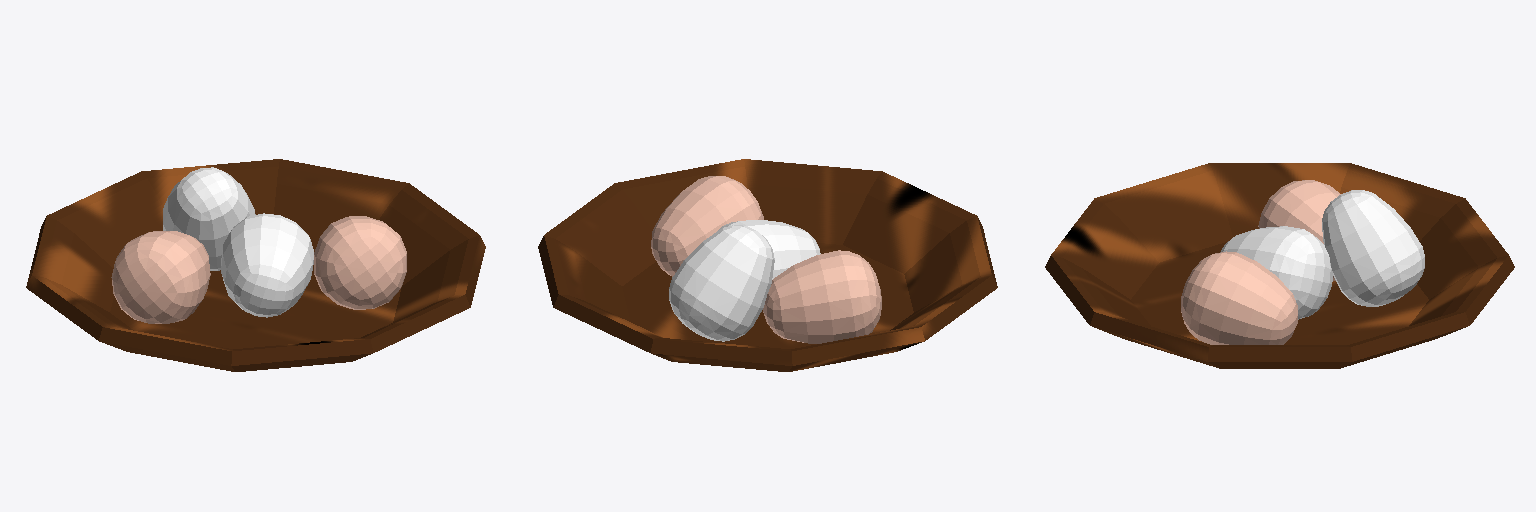
3 renders of one model, left to right at view 1: azimuth 30°, elevation 25°; view 2: azimuth 150°, elevation 25°; view 3: azimuth 270°, elevation 25°, orthographic.
Visible parts, largest first — view 1: Egg_Whole_Cube.001; view 2: Egg_Whole_Cube.001; view 3: Egg_Whole_Cube.001.
Part boxes in pixels (left/top/right/bottom): Egg_Whole_Cube.001: left=26, top=159, right=485, bottom=371; Egg_Whole_Cube.001: left=538, top=159, right=997, bottom=371; Egg_Whole_Cube.001: left=1045, top=163, right=1514, bottom=368.
Bounding box in the file's own units: 1.74 × 0.5022 × 1.83.
Materials: 1 (1 with a texture image).